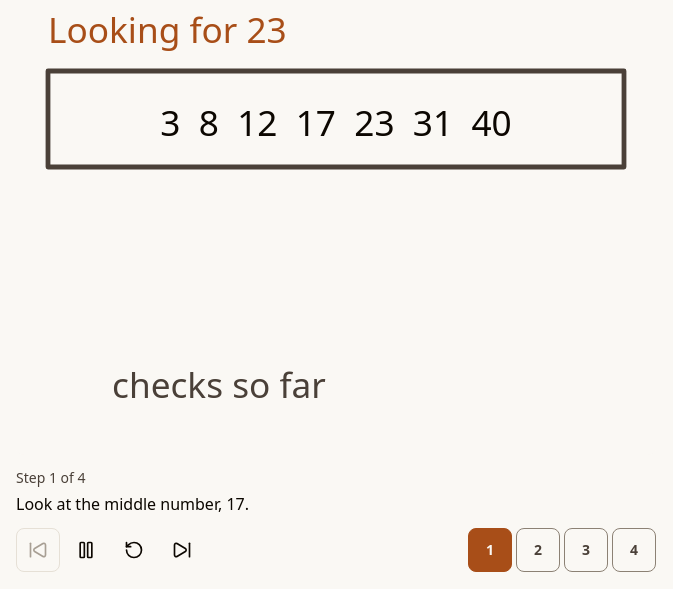
a step button jumps to that step
Click the button named "Step 4 of 4" at (634, 550), box [612,528,656,572]
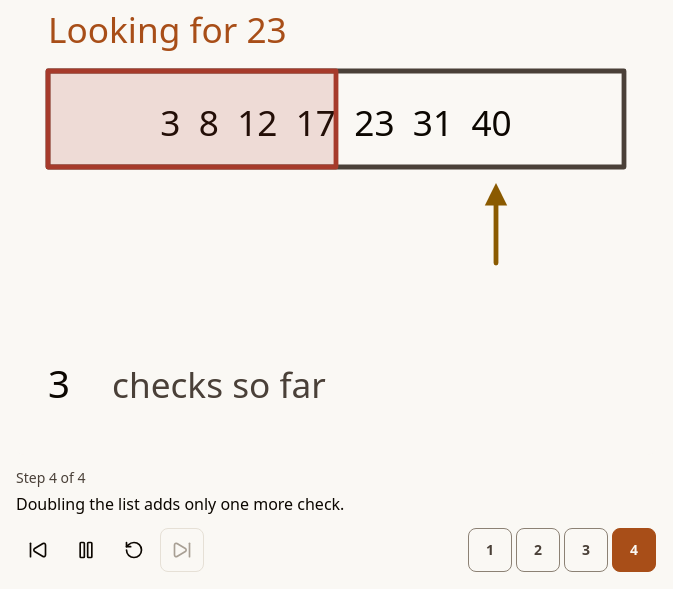
Now the text with class "an-caption-text" reads "Doubling the list adds only one more check.", box [16,493,344,515]
Now the button named "Next" is disabled, box [160,528,204,572]
